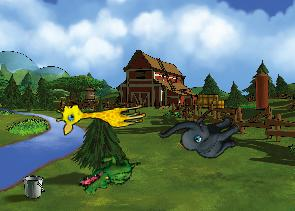crocodile: (75, 140, 142, 208)
elephant: (157, 92, 246, 178)
giraffe: (54, 92, 147, 136)
